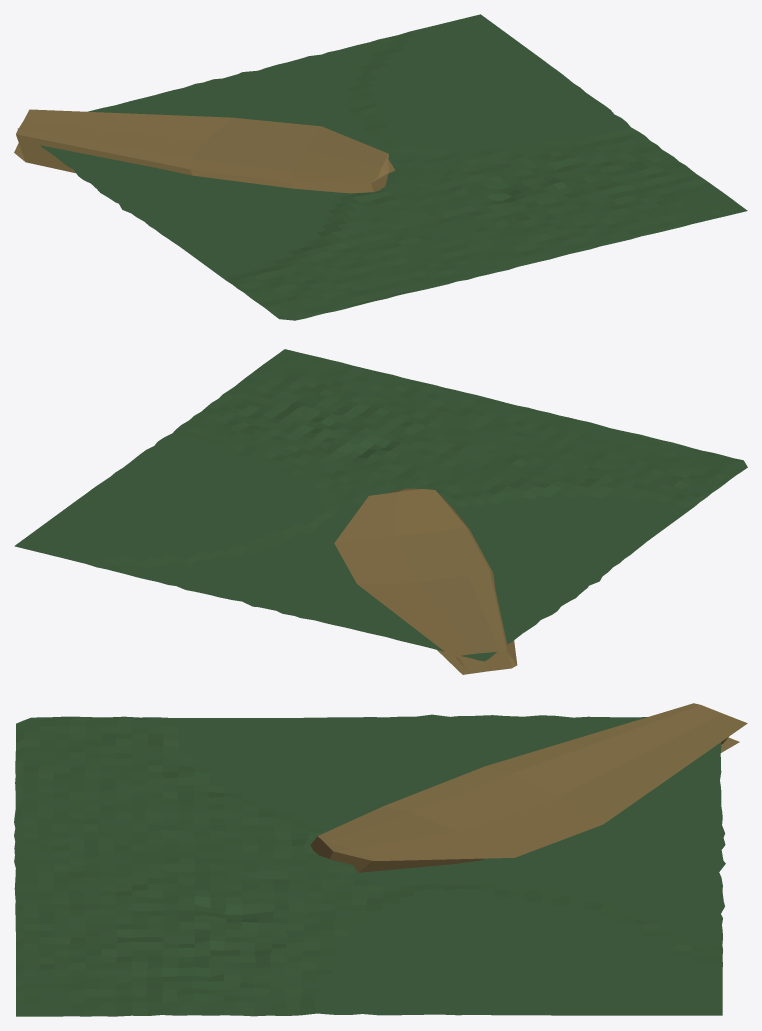
File: athili_copse_section8.glb
3 views of the same model, one above another, from view 1: azimuth 30°, elevation 25°; view 2: azimuth 150°, elevation 25°; view 3: azimuth 270°, elevation 25° (orthographic). The views are drawn at different scales.
Visible parts, largest first — view 1: Grass, Road; view 2: Grass, Road; view 3: Grass, Road.
Part boxes in pixels (x1,y1,x2,y2): Grass: [17, 14, 747, 320]; Road: [14, 109, 394, 193]; Grass: [14, 349, 747, 661]; Road: [334, 488, 517, 674]; Grass: [14, 714, 725, 1016]; Road: [310, 703, 747, 872].
Bounding box in the file's own units: 61.19 × 3.63 × 61.44.
